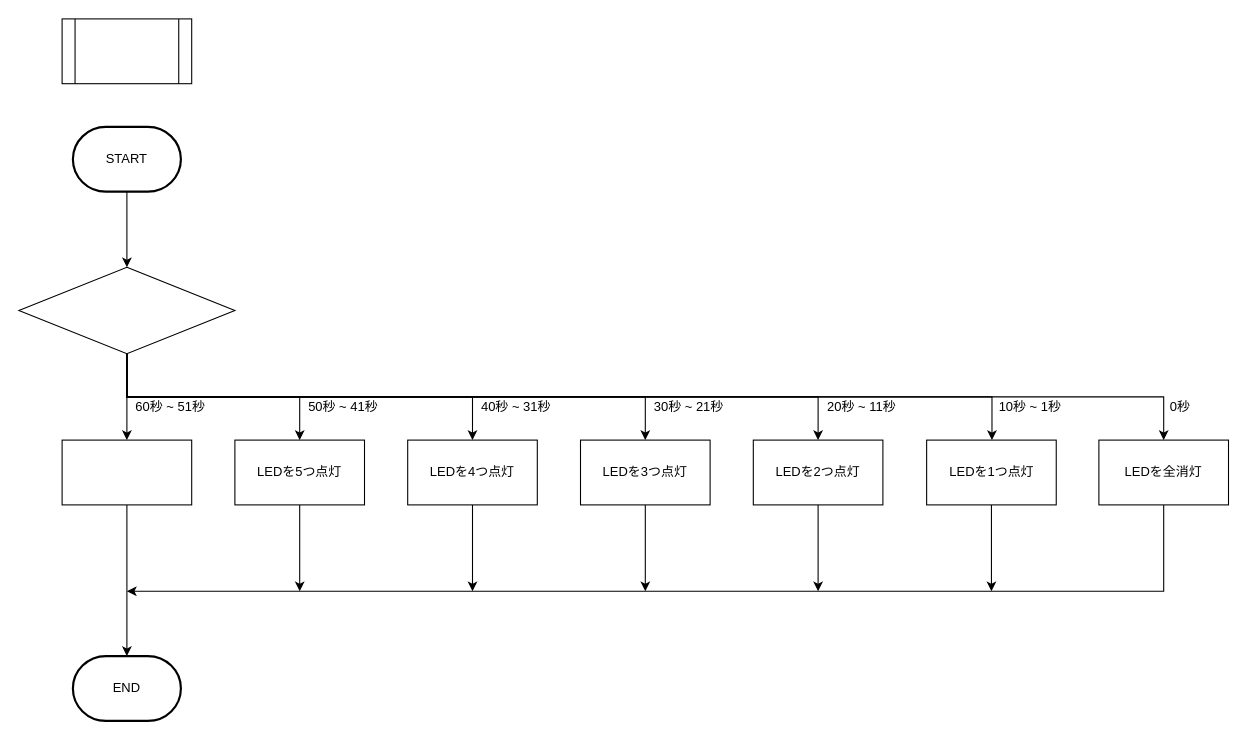
Some shapes in this 1247 by 741 pixel diagram are drawn without their labels. The shapes that lost their labels are listed below. From the top down, each one's centre as x and y in pixels, then its label:
At (126,51): "LED更新 UpdateLED".
At (126,310): "制限時間は？".
At (126,472): "LEDを6つ点灯".
